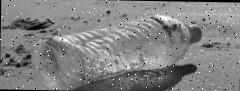plastic: (29, 11, 201, 91)
